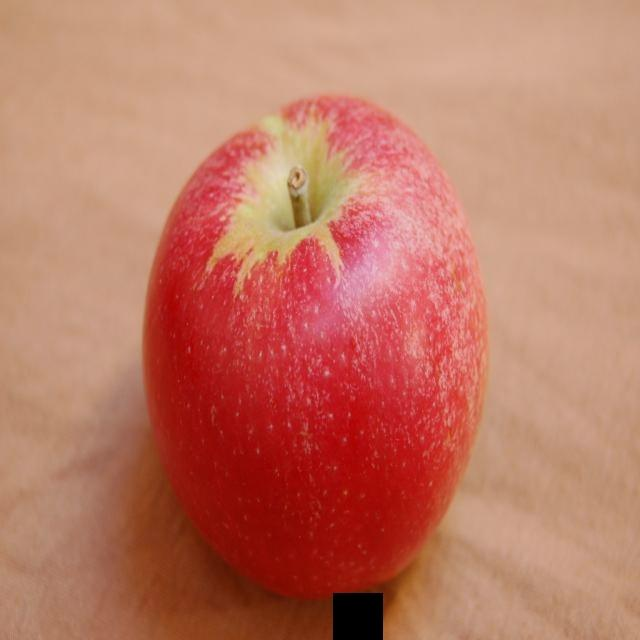red apple: (140, 84, 494, 602)
